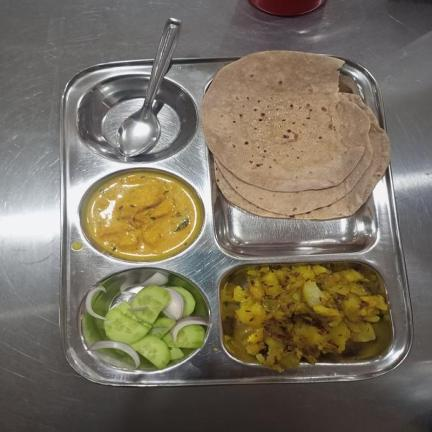Curry: (84, 172, 200, 259)
Plate: (60, 58, 414, 386)
Roti: (200, 50, 391, 221)
Salad: (85, 271, 213, 368)
Zeera Aalu: (231, 263, 390, 374)
